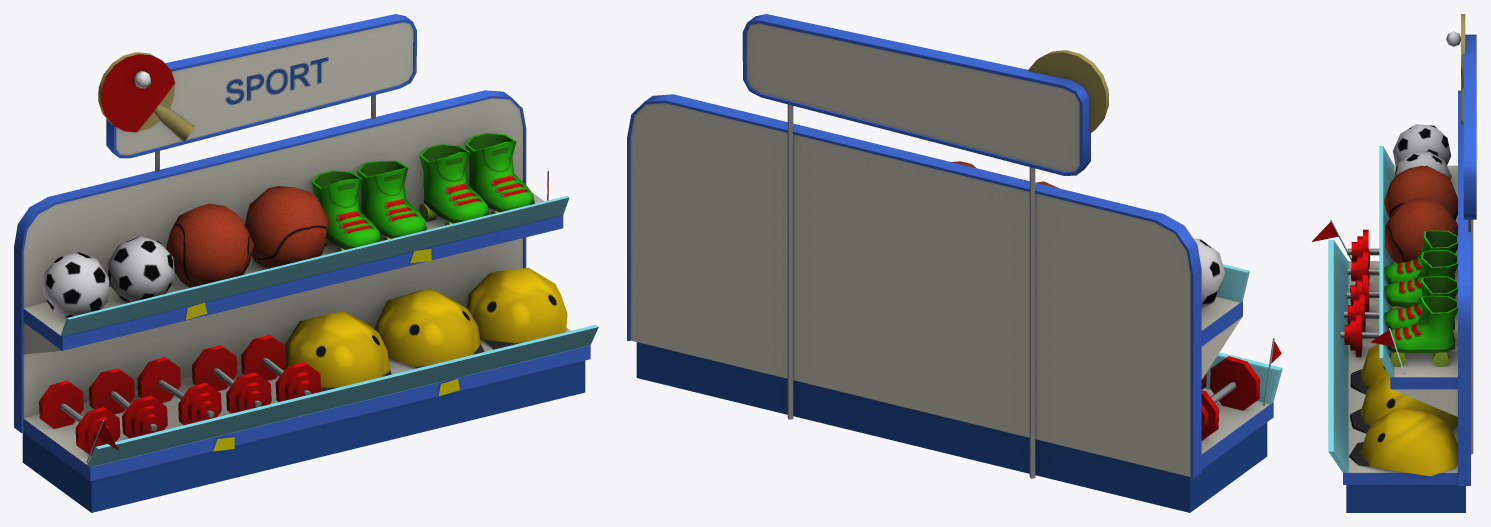
Rendered from interior_shelf_sport_001_mesh.FBX.
3 views of the same model, side by side, from view 1: azimuth 30°, elevation 25°; view 2: azimuth 150°, elevation 25°; view 3: azimuth 270°, elevation 25° (orthographic). The views are drawn at different scales.
Visible parts, largest first — view 1: interior_shelf_sport_001_gr; view 2: interior_shelf_sport_001_gr; view 3: interior_shelf_sport_001_gr.
Boxes of the visible parts, x1,y1,x2,y2 form: interior_shelf_sport_001_gr: (14,14,598,512); interior_shelf_sport_001_gr: (627,14,1282,512); interior_shelf_sport_001_gr: (1312,14,1476,512).
Bounding box in the file's own units: 29.96 × 21.44 × 9.68.
